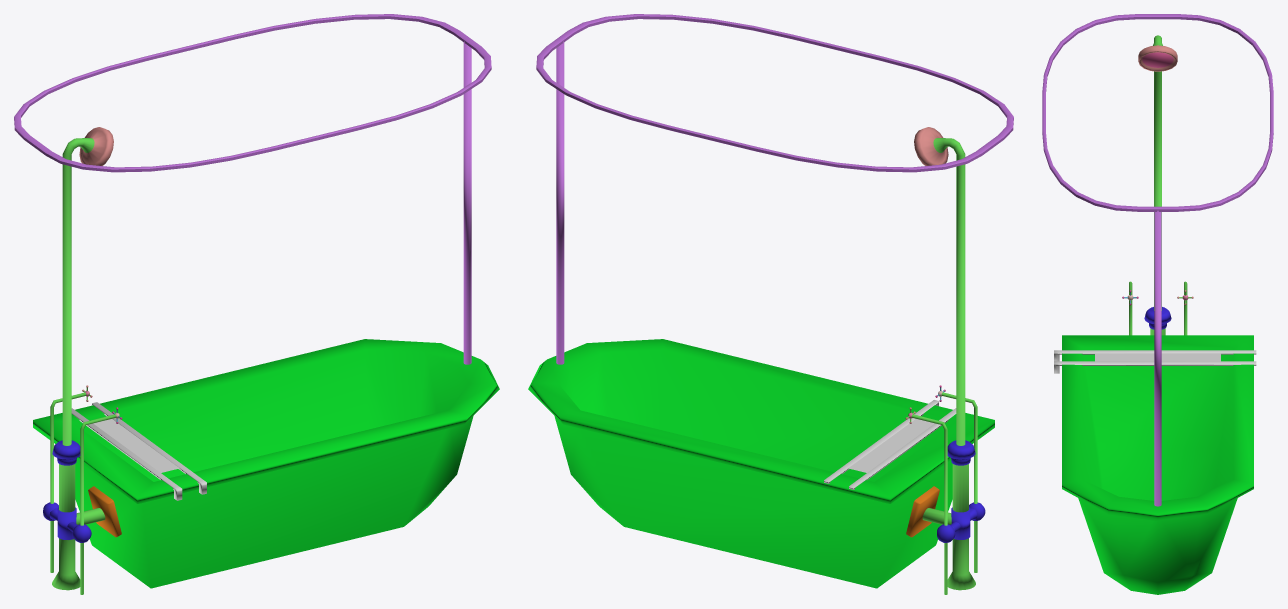
File: shower main.dae
3 views of the same model, side by side, from view 1: azimuth 30°, elevation 25°; view 2: azimuth 150°, elevation 25°; view 3: azimuth 270°, elevation 25° (orthographic). The views are drawn at different scales.
Parts seen in each view (by area): view 1: shower; view 2: shower; view 3: shower.
Part boxes in pixels (x1,y1,x2,y2): shower: (14, 14, 499, 594); shower: (528, 14, 1013, 594); shower: (1042, 14, 1273, 594).
Size of the model in its own units: 12.67 by 6.09 by 11.94.
